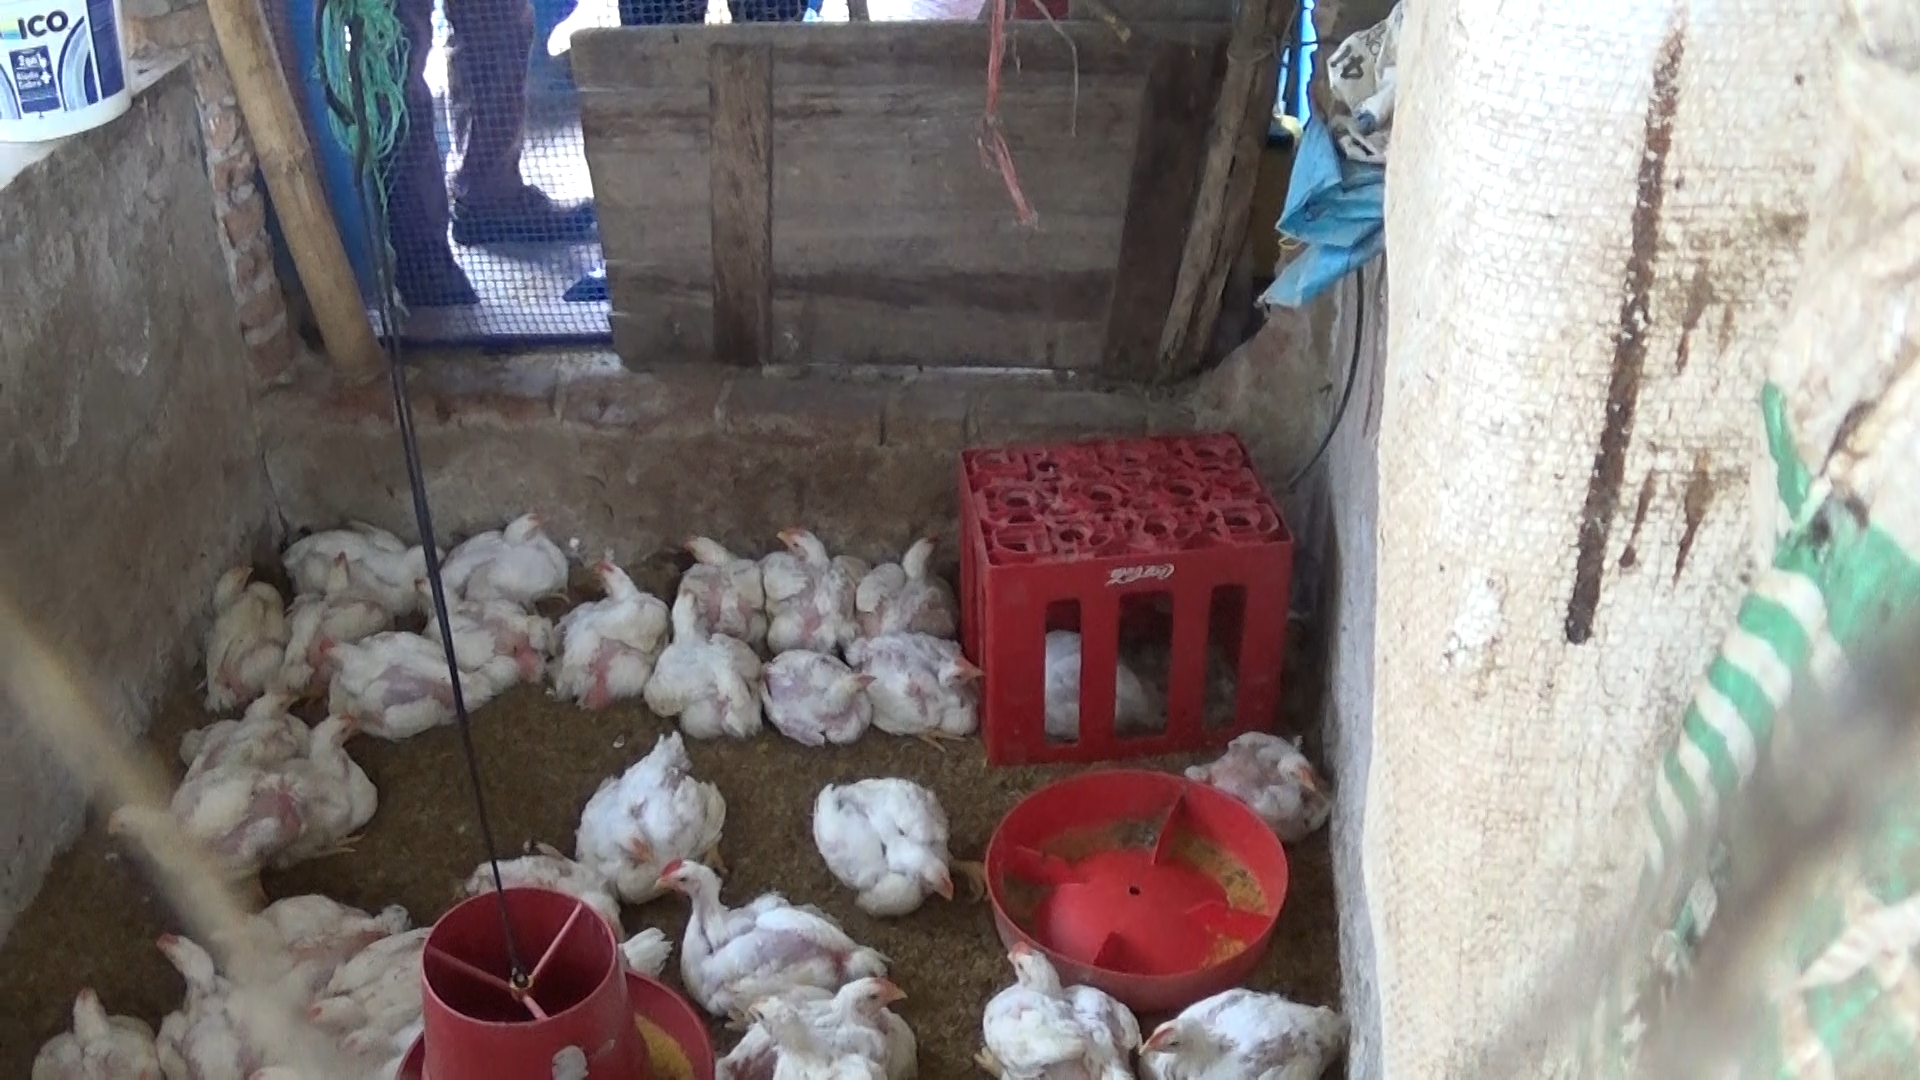Pollos: (653, 843, 837, 984), (88, 762, 284, 891), (967, 928, 1135, 1073), (1135, 972, 1352, 1079), (646, 578, 781, 738), (814, 766, 960, 914), (585, 721, 713, 884), (1180, 713, 1338, 841), (297, 924, 429, 1064), (324, 618, 481, 735), (413, 571, 568, 687), (553, 550, 667, 703), (742, 977, 924, 1073), (849, 629, 984, 750), (152, 919, 251, 1080), (269, 707, 377, 851), (290, 508, 454, 603), (278, 545, 388, 684), (30, 971, 160, 1080), (194, 560, 297, 687), (436, 506, 572, 597), (760, 522, 861, 642), (764, 642, 880, 738), (191, 673, 302, 765), (855, 529, 953, 628), (676, 526, 760, 629)
